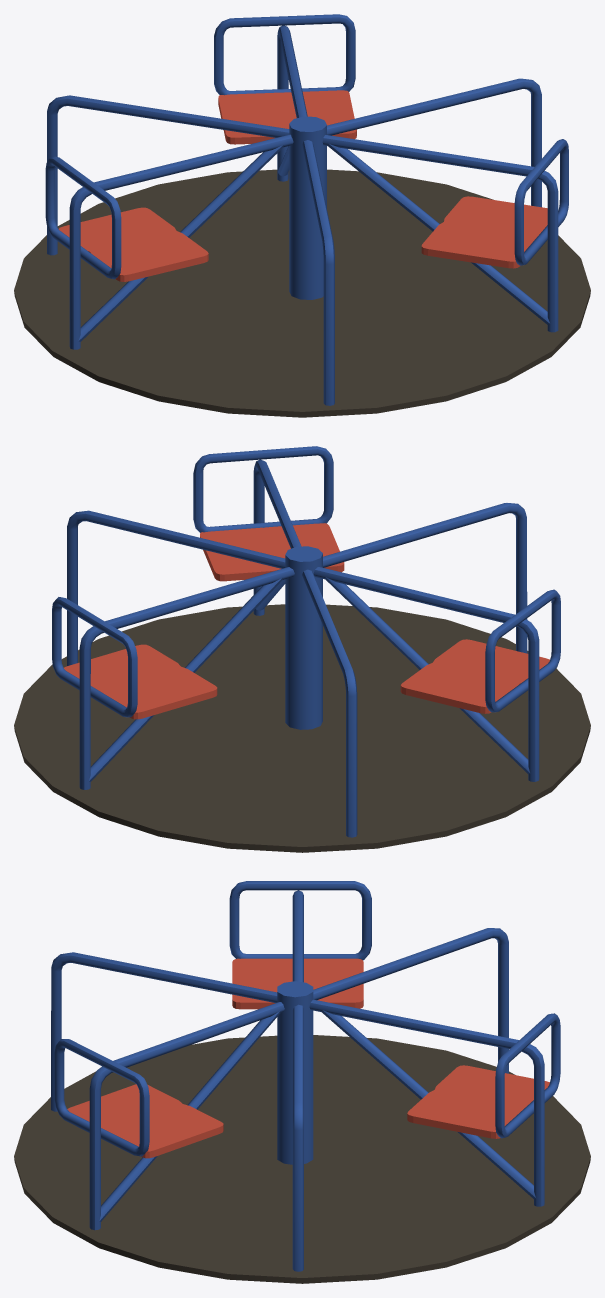
File: SM_Swings_02.fbx
3 views of the same model, one above another, from view 1: azimuth 30°, elevation 25°; view 2: azimuth 150°, elevation 25°; view 3: azimuth 270°, elevation 25° (orthographic).
Parts seen in each view (by area): view 1: SM_Swings_02; view 2: SM_Swings_02; view 3: SM_Swings_02.
Part boxes in pixels (x1,y1,x2,y2): SM_Swings_02: [14, 14, 590, 417]; SM_Swings_02: [14, 446, 590, 852]; SM_Swings_02: [14, 881, 590, 1283].
Bounding box in the file's own units: 247 × 97.28 × 247.
